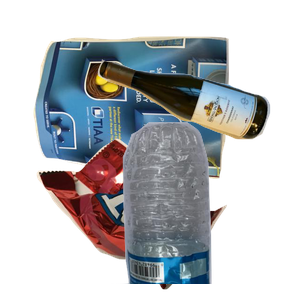glass: (95, 57, 300, 189)
paper: (31, 34, 252, 205)
plastic: (111, 120, 300, 300)
trash: (34, 136, 253, 300)
